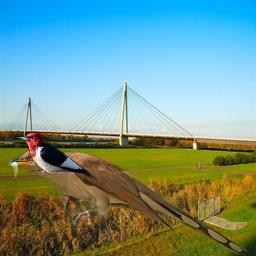Cuckoo: (4, 147, 248, 255)
Woodpecker: (13, 131, 97, 181)
